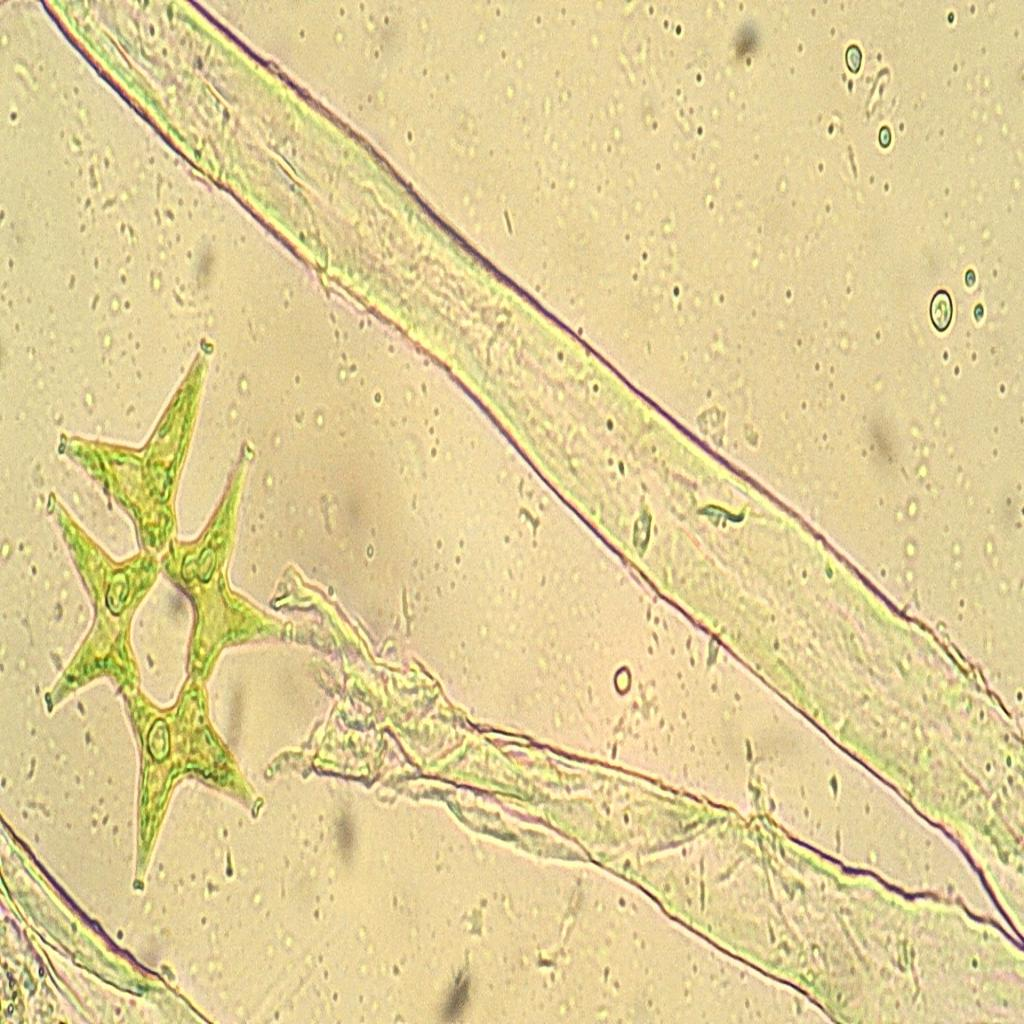Pediastrum_CT: (26, 334, 308, 897)
